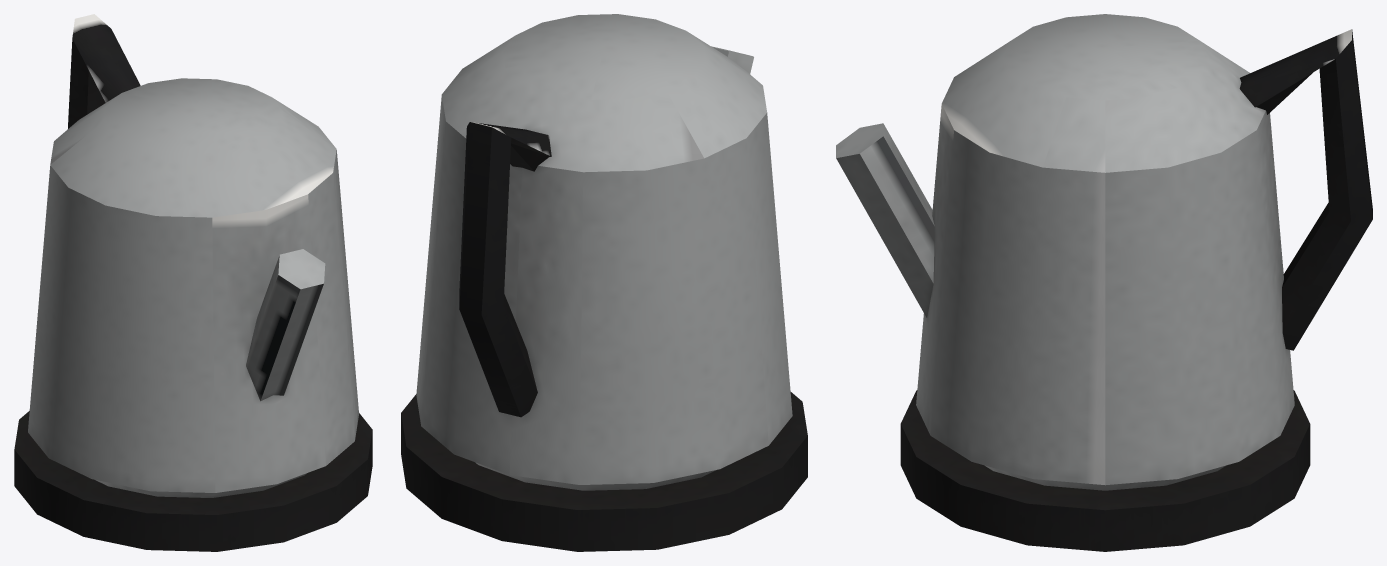
Rendered from H_Kettle.fbx.
The picture shows the model from 3 angles, left to right: view 1: azimuth 30°, elevation 25°; view 2: azimuth 150°, elevation 25°; view 3: azimuth 270°, elevation 25°; orthographic projection. The views are drawn at different scales.
Parts seen in each view (by area): view 1: H_Kettle; view 2: H_Kettle; view 3: H_Kettle.
Part boxes in pixels (x1,y1,x2,y2): H_Kettle: [14, 14, 372, 551]; H_Kettle: [401, 14, 807, 551]; H_Kettle: [836, 14, 1372, 551].
Size of the model in its own units: 80 by 92.92 by 105.
1 material, 1 textured.
